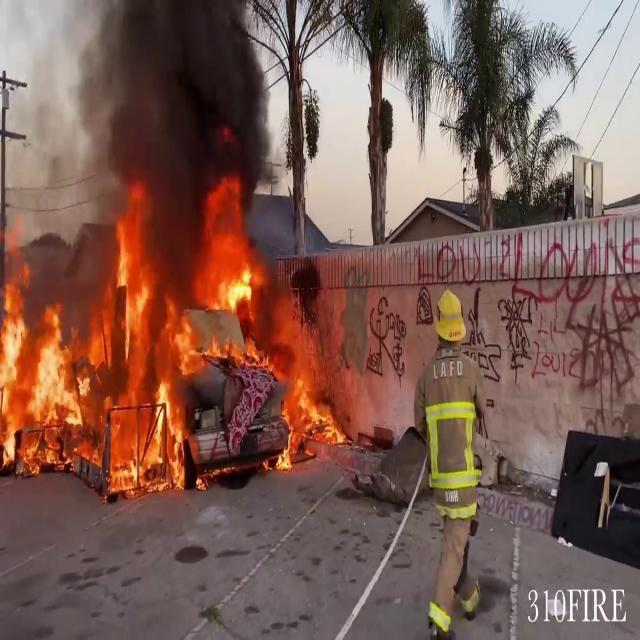Fire: (0, 182, 352, 489)
Smoke: (45, 0, 282, 204)
